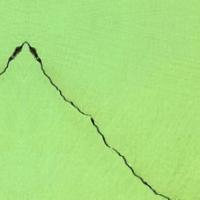crack: (0, 27, 166, 199)
